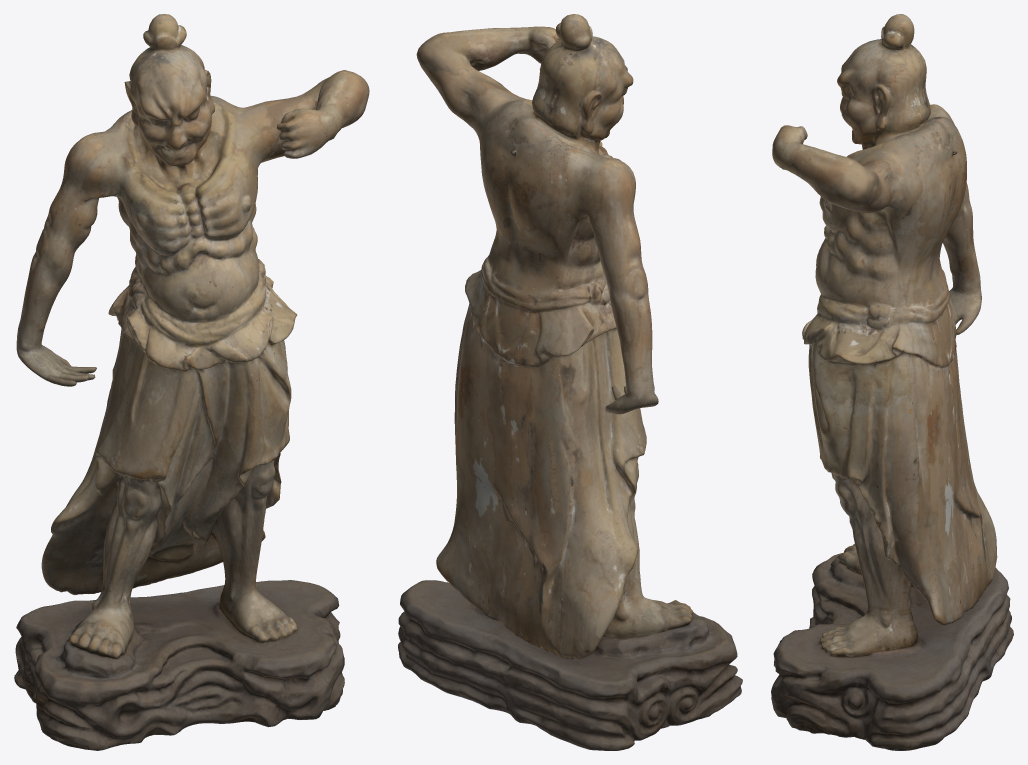
File: guardian-a.glb
3 renders of one model, left to right at view 1: azimuth 30°, elevation 25°; view 2: azimuth 150°, elevation 25°; view 3: azimuth 270°, elevation 25°, orthographic. The views are drawn at different scales.
Parts seen in each view (by area): view 1: guardian-a; view 2: guardian-a; view 3: guardian-a.
Part boxes in pixels (<box>): guardian-a: <box>14,14,369,750</box>; guardian-a: <box>398,14,742,750</box>; guardian-a: <box>771,14,1013,750</box>.
Bounding box in the file's own units: 0.9043 × 1.84 × 0.6176.
1 material, 1 textured.
